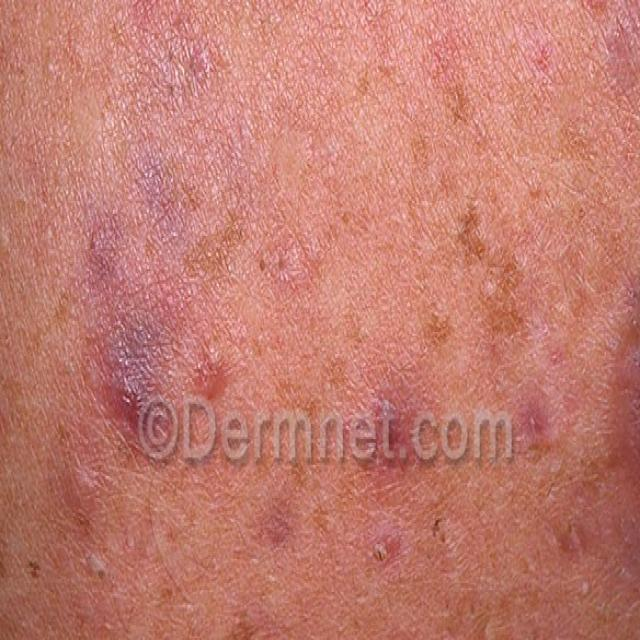Acne: (408, 59, 535, 369), (567, 217, 640, 588), (227, 228, 321, 339), (80, 175, 141, 306), (372, 524, 439, 640), (354, 351, 403, 499), (61, 462, 125, 572), (184, 298, 235, 436), (249, 462, 306, 582), (92, 335, 151, 447)
